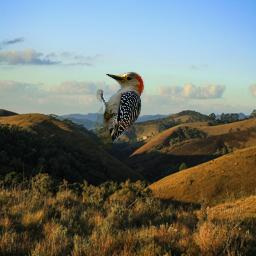Woodpecker: (95, 68, 154, 149)
